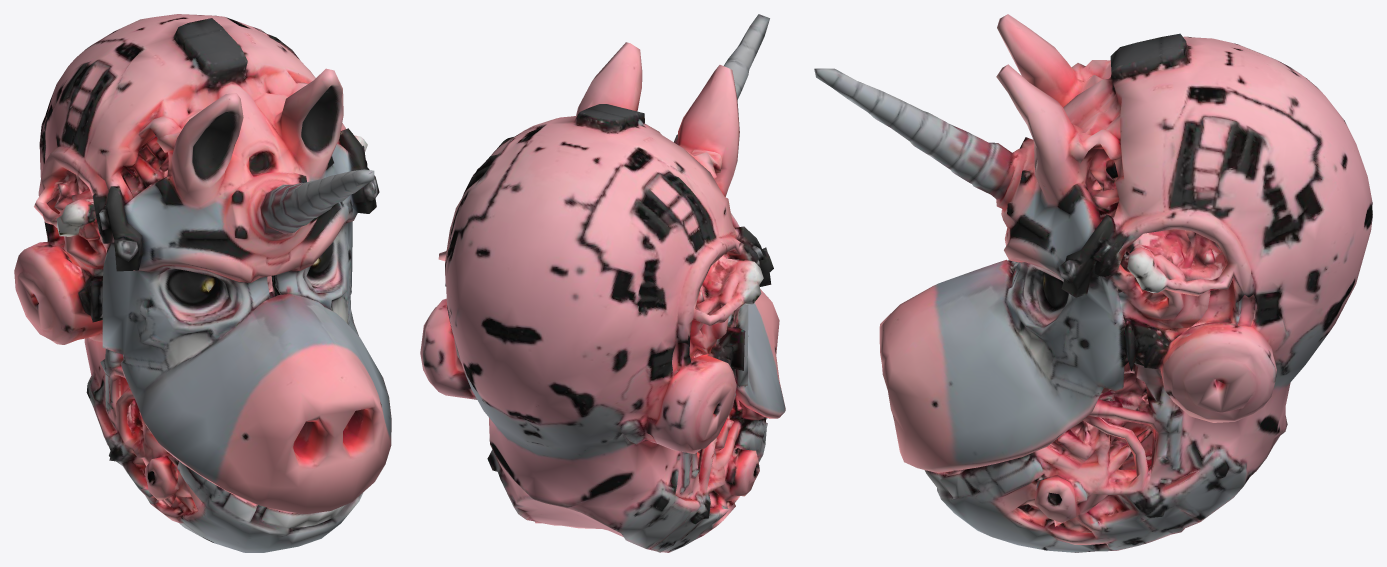
Rendered from friendlyunicornminator.glb.
3 renders of one model, left to right at view 1: azimuth 30°, elevation 25°; view 2: azimuth 150°, elevation 25°; view 3: azimuth 270°, elevation 25°, orthographic. The views are drawn at different scales.
Parts seen in each view (by area): view 1: Mesh1.0; view 2: Mesh1.0; view 3: Mesh1.0.
Part boxes in pixels (x1,y1,x2,y2): Mesh1.0: (14, 14, 391, 552); Mesh1.0: (420, 14, 785, 552); Mesh1.0: (814, 14, 1372, 552).
Size of the model in its own units: 1.27 by 1.86 by 1.91.
1 material, 1 textured.
